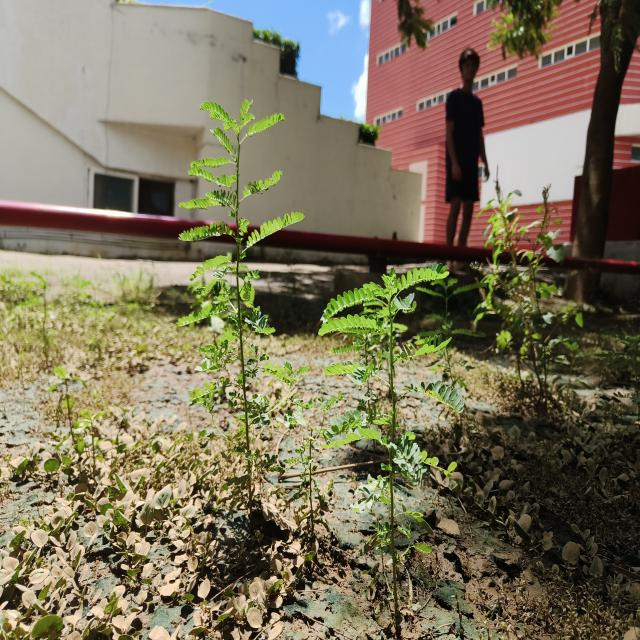weed: (323, 260, 463, 625), (181, 93, 308, 486)
